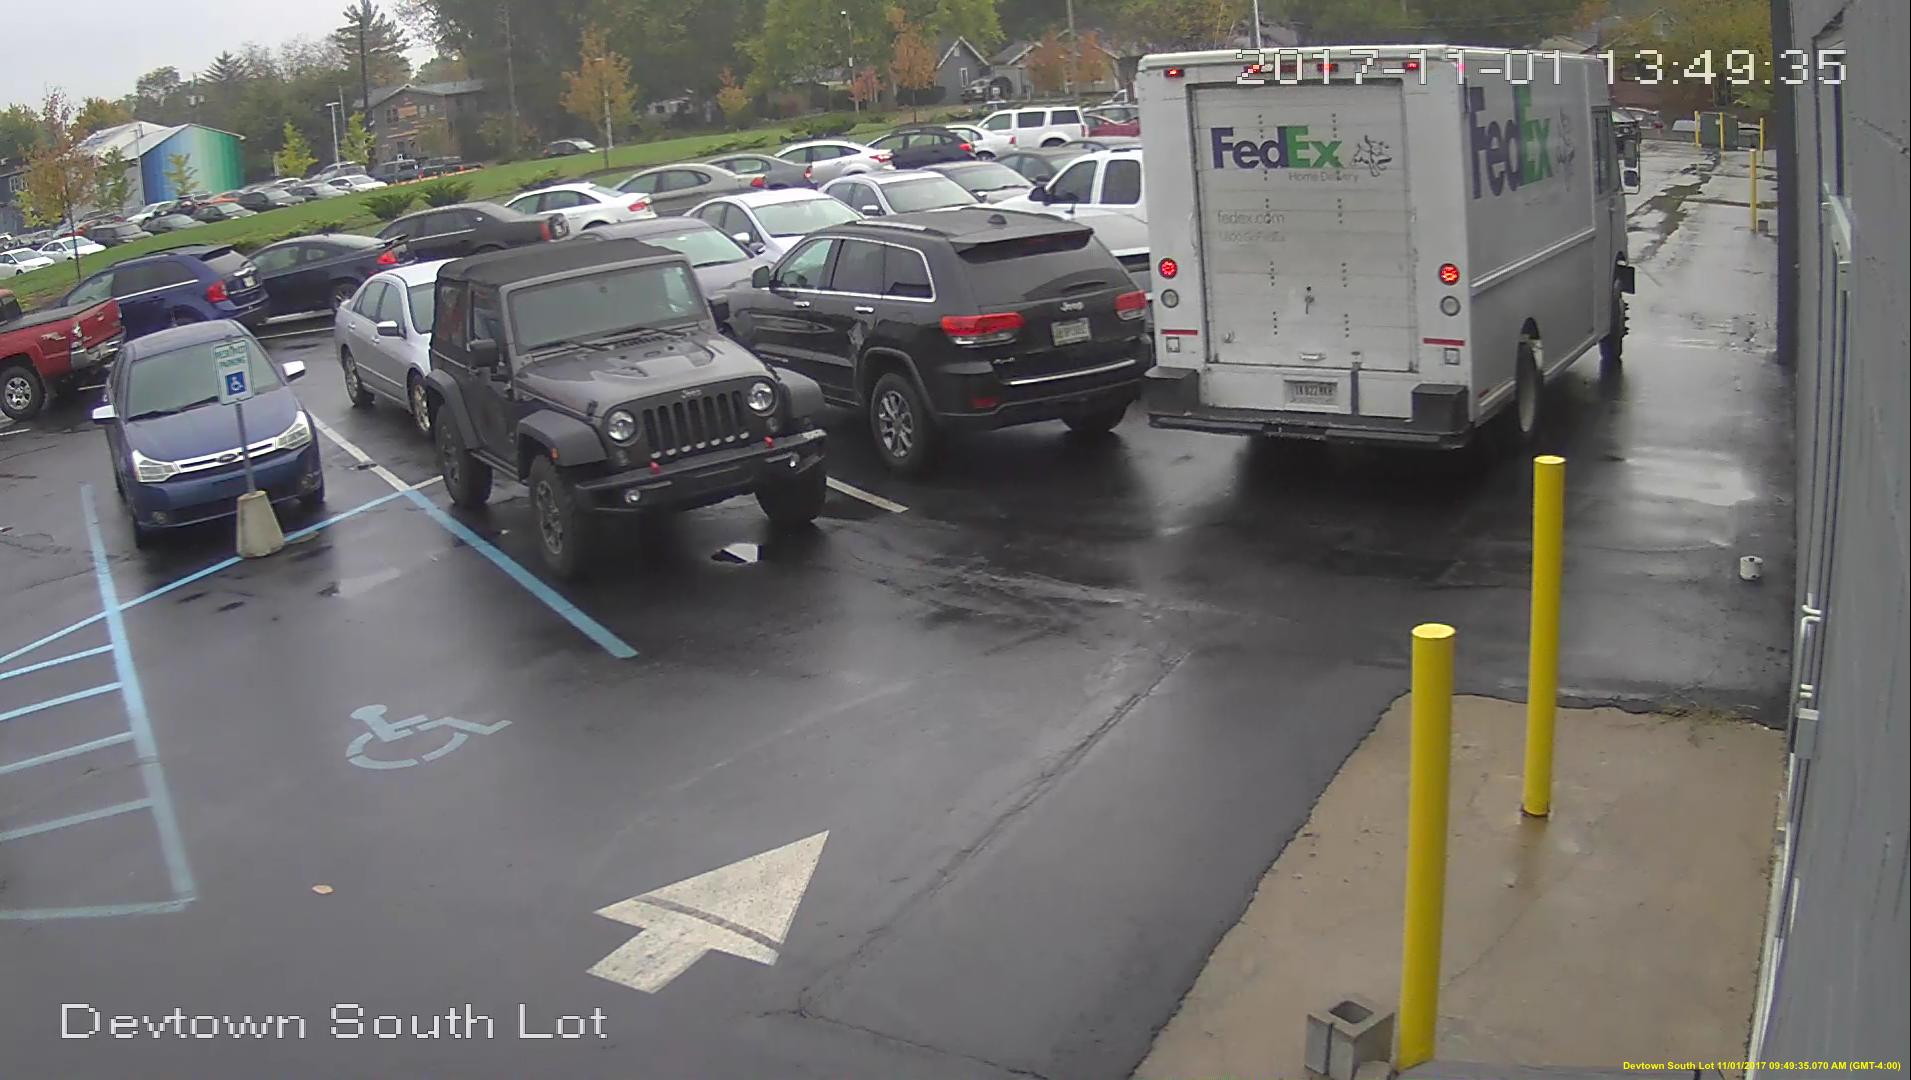fedex_truck: (1139, 52, 1637, 444)
